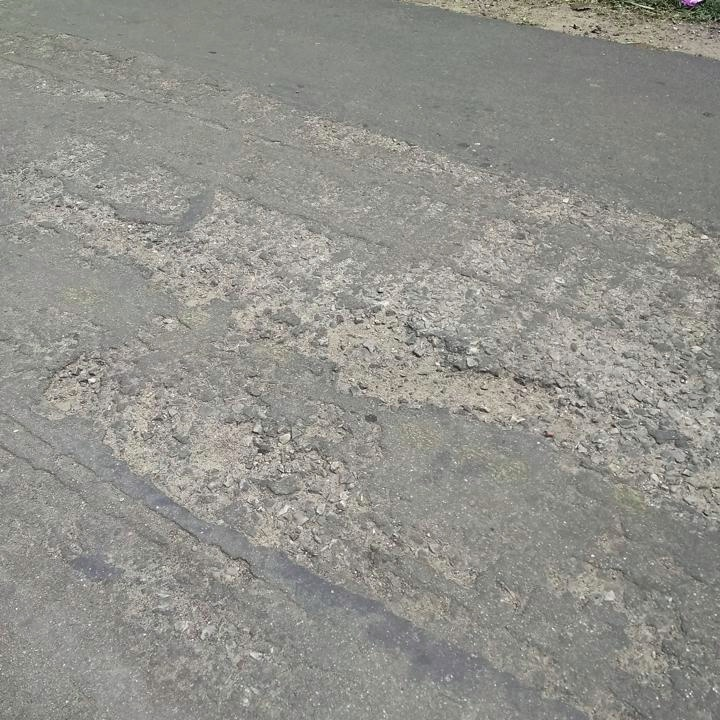pothole: (320, 308, 562, 430), (80, 196, 240, 301), (37, 353, 111, 415)
